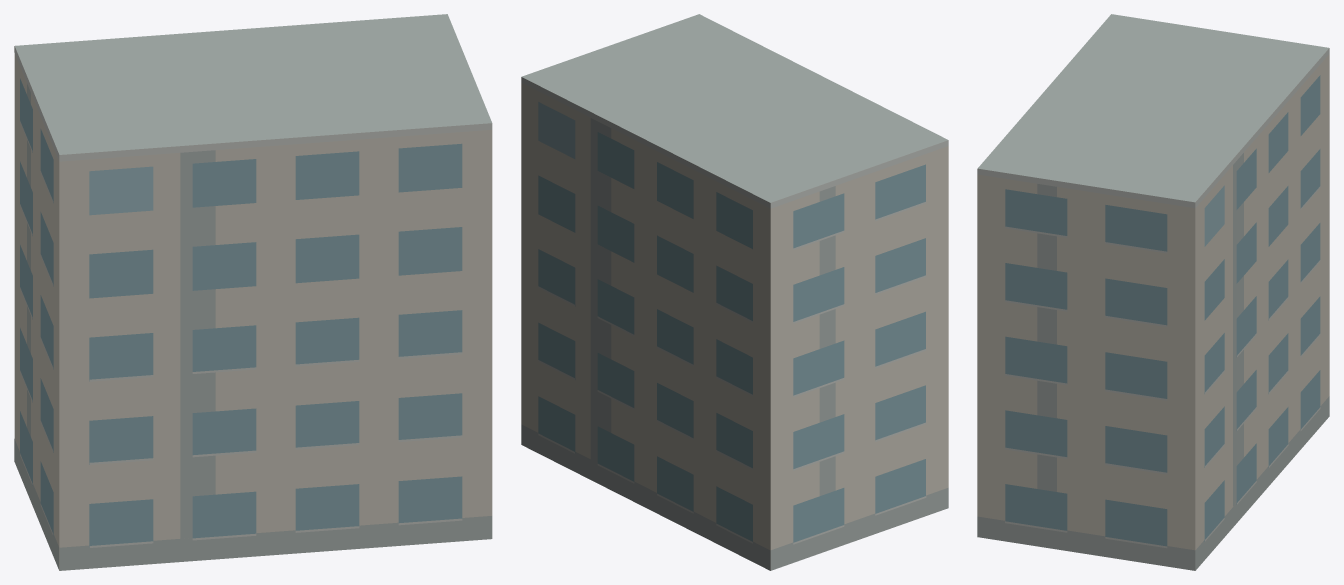
The model's file is residential-bda329c5-b8f2-454d-a8f4-bc3b06df598a.glb.
3 renders of one model, left to right at view 1: azimuth 30°, elevation 25°; view 2: azimuth 150°, elevation 25°; view 3: azimuth 270°, elevation 25°, orthographic. The views are drawn at different scales.
Visible parts, largest first — view 1: residential-bda329c5-b8f2-454d-a8f4-bc3b06df598a.tmp; view 2: residential-bda329c5-b8f2-454d-a8f4-bc3b06df598a.tmp; view 3: residential-bda329c5-b8f2-454d-a8f4-bc3b06df598a.tmp.
Part boxes in pixels (box(x1,y1,x2,y2)): residential-bda329c5-b8f2-454d-a8f4-bc3b06df598a.tmp: box(14, 14, 492, 570); residential-bda329c5-b8f2-454d-a8f4-bc3b06df598a.tmp: box(521, 14, 948, 570); residential-bda329c5-b8f2-454d-a8f4-bc3b06df598a.tmp: box(977, 14, 1329, 570).
Size of the model in its own units: 16.73 by 15.25 by 13.21.
